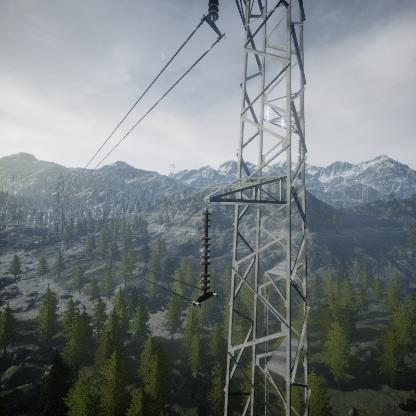insulator: (197, 206, 214, 293)
